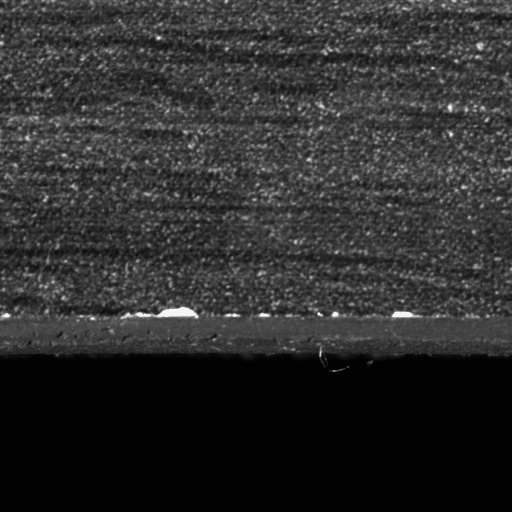huashang: (151, 305, 199, 320), (391, 310, 418, 320)
